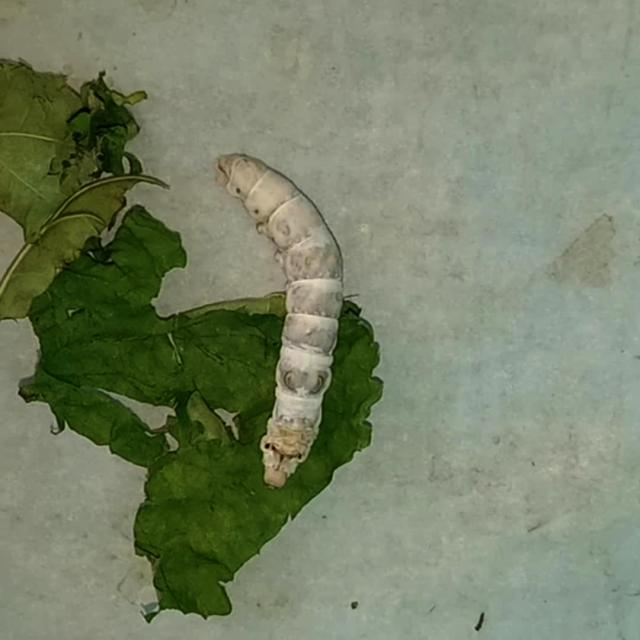Grasserie: (209, 138, 379, 508)
